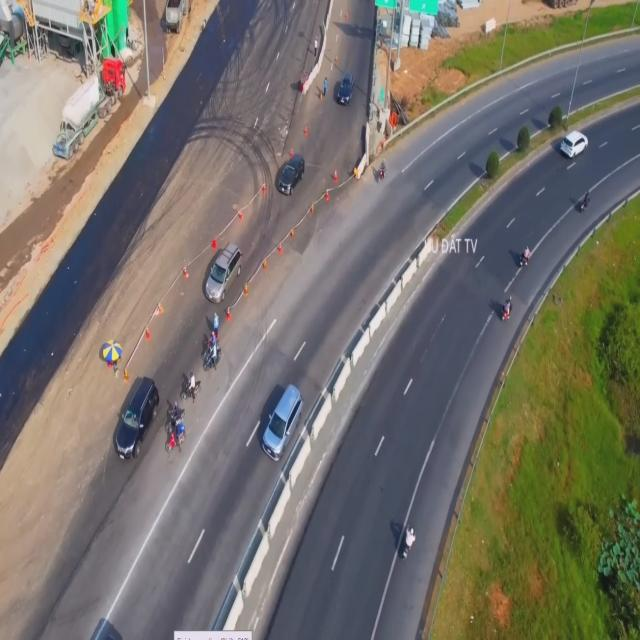car: (114, 376, 160, 460), (262, 383, 302, 462), (206, 239, 243, 301), (276, 150, 306, 196), (334, 71, 356, 107), (562, 132, 590, 160)
motorbike: (167, 421, 187, 452), (180, 377, 201, 404), (498, 294, 516, 321), (204, 344, 222, 371), (400, 528, 414, 560), (580, 189, 594, 215), (521, 246, 534, 270)
